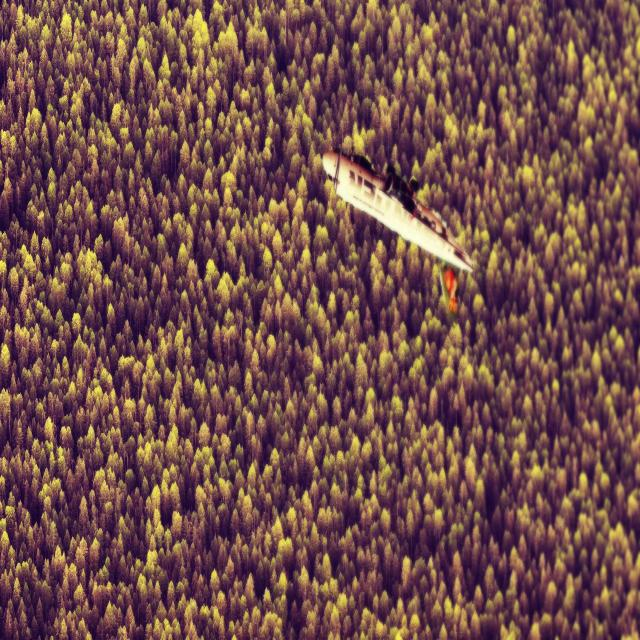airplane: (322, 146, 474, 274)
